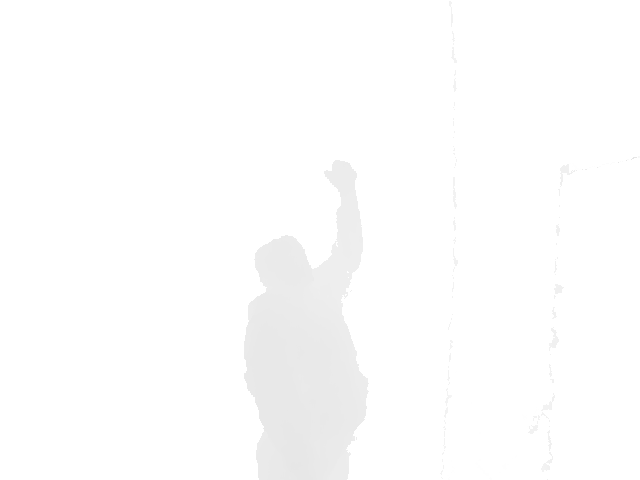hand: (324, 158, 358, 192)
head: (253, 235, 315, 294)
person: (241, 158, 370, 480)
